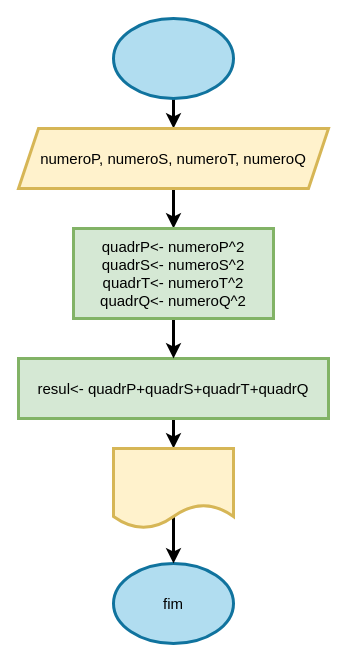
Some shapes in this 347 by 662 pixel diagram are drawn without their labels. Here are the shapes that lost their labels. From the top down, the centre of each, then its label:
At point (173, 58): "inicio".
At point (173, 488): "resultado".
